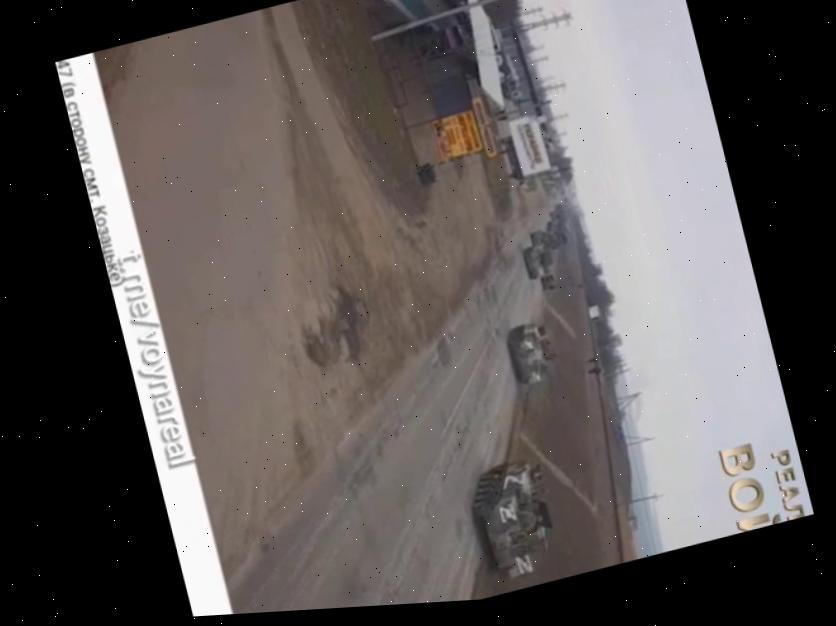tank: (463, 452, 565, 587), (501, 319, 562, 397), (510, 240, 562, 292), (521, 228, 554, 250)
